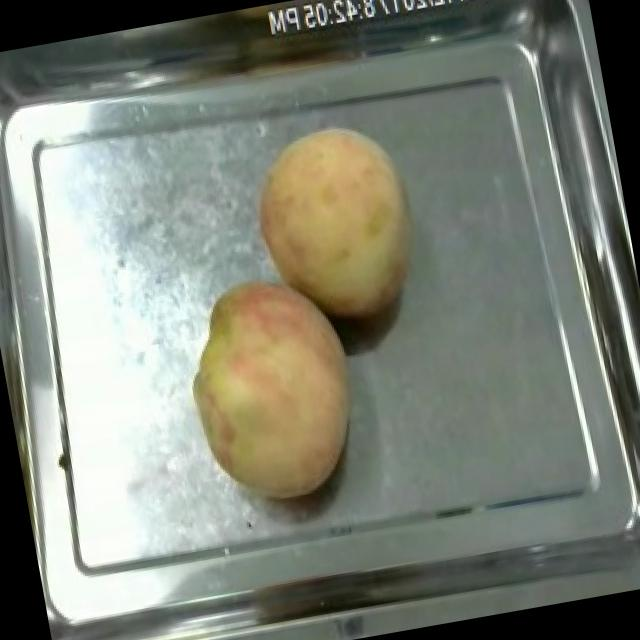Fruit: (165, 264, 378, 517), (232, 107, 434, 341)
